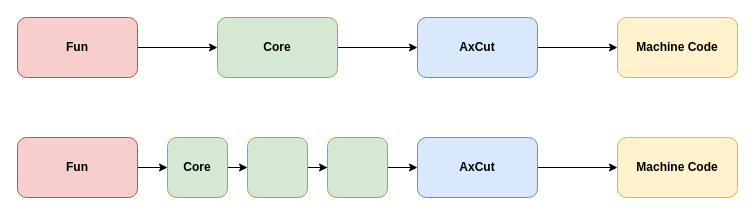
This 755x215 diagram has some shape labels left out. The centre of each missing label's shape, as x and y in pixels:
Focused Core: the point at 277,167
Shrunk Core: the point at 357,167
